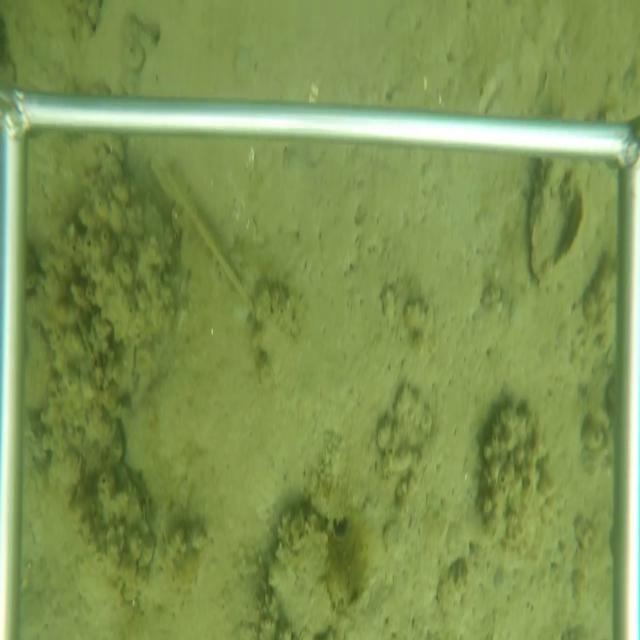Oyster-Indeterminate: (265, 499, 335, 637)
